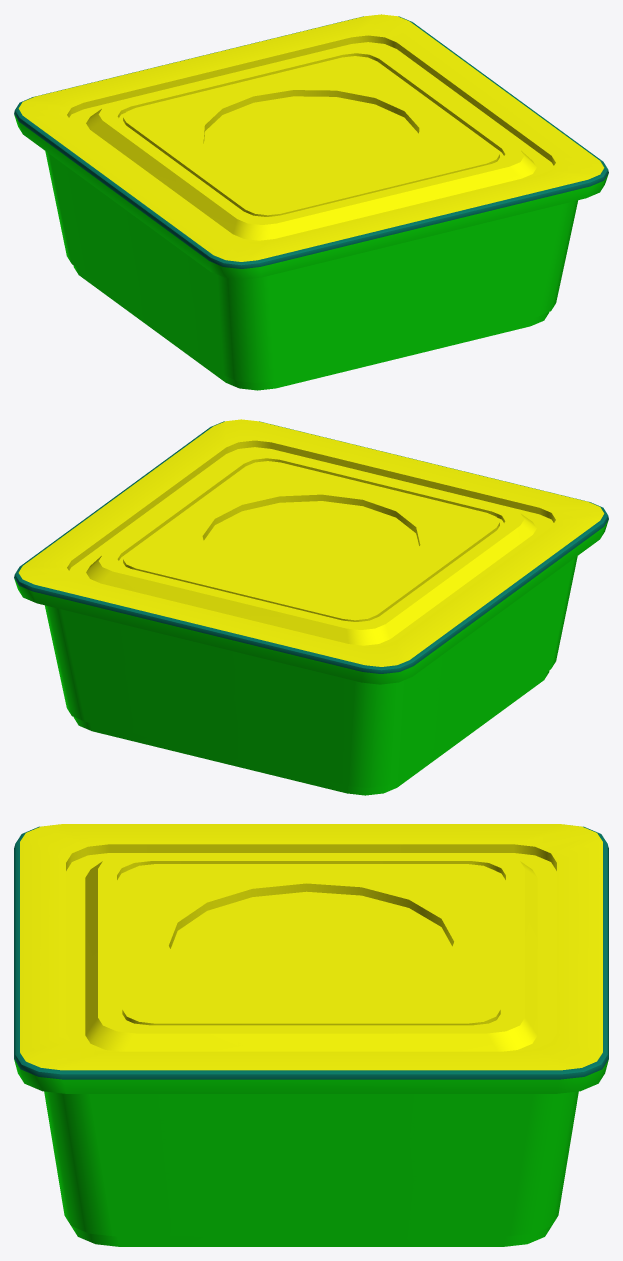
File: SM_Socle_plante.fbx
The picture shows the model from 3 angles, top to bottom: view 1: azimuth 30°, elevation 25°; view 2: azimuth 150°, elevation 25°; view 3: azimuth 270°, elevation 25°; orthographic projection. The views are drawn at different scales.
Visible parts, largest first — view 1: SM_Socle_plante; view 2: SM_Socle_plante; view 3: SM_Socle_plante.
Part boxes in pixels (x1,y1,x2,y2): SM_Socle_plante: [14, 14, 608, 390]; SM_Socle_plante: [14, 419, 608, 795]; SM_Socle_plante: [14, 824, 608, 1246].
Bounding box in the file's own units: 1.15 × 0.4299 × 1.15.
